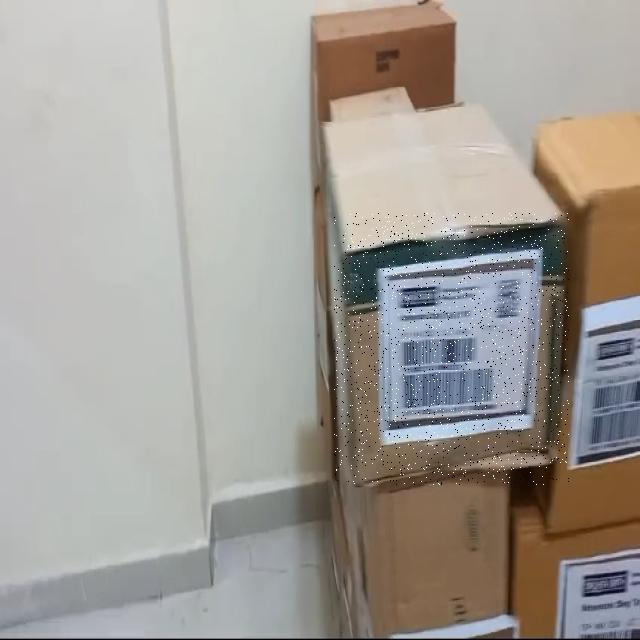BoxFace: (334, 214, 569, 486)
